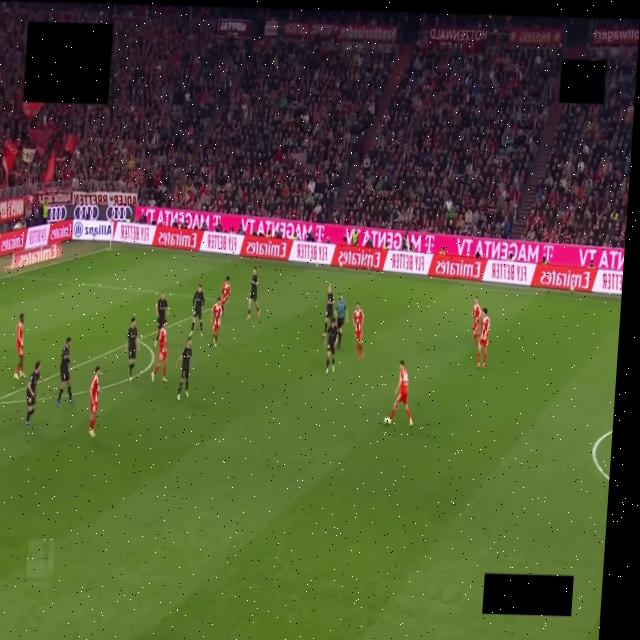ball: (384, 417, 390, 425)
player: (385, 360, 412, 427), (56, 337, 78, 407), (14, 313, 30, 380), (86, 366, 101, 437), (25, 362, 40, 428), (176, 337, 191, 400), (151, 320, 166, 382), (125, 318, 138, 381), (189, 285, 204, 337), (476, 308, 489, 367), (154, 292, 168, 346), (246, 267, 259, 319), (325, 318, 337, 373), (353, 302, 364, 359), (323, 284, 333, 336), (212, 297, 222, 346), (472, 296, 480, 345), (220, 276, 230, 312)
referee: (336, 294, 347, 347)
